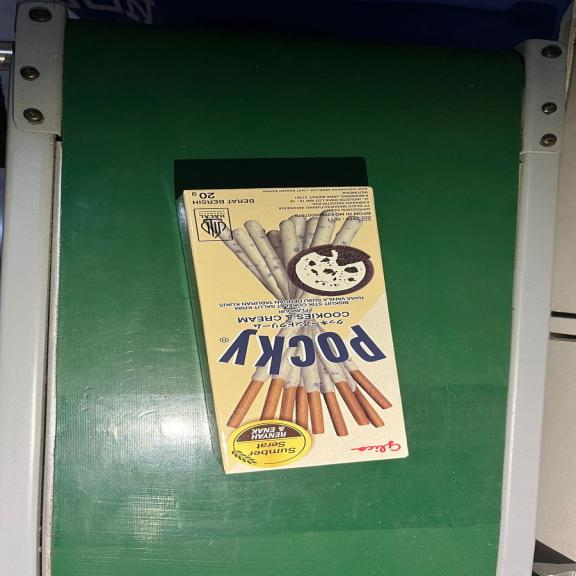Kertas: (181, 191, 414, 476)
